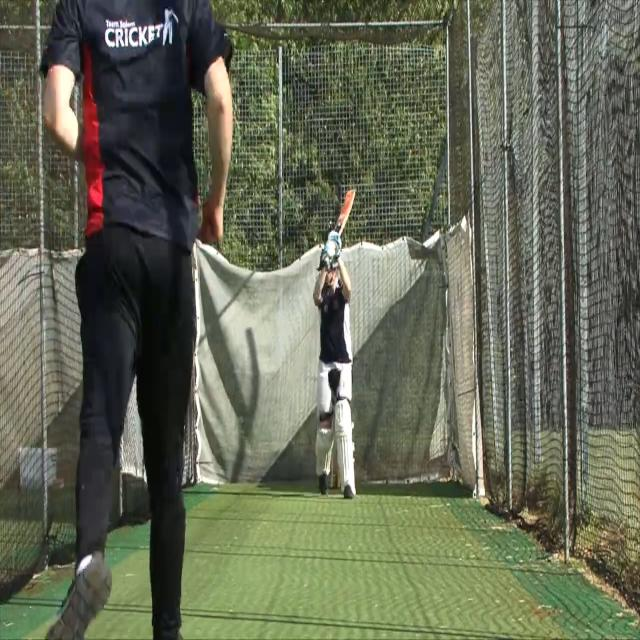batsman: (312, 188, 364, 501)
